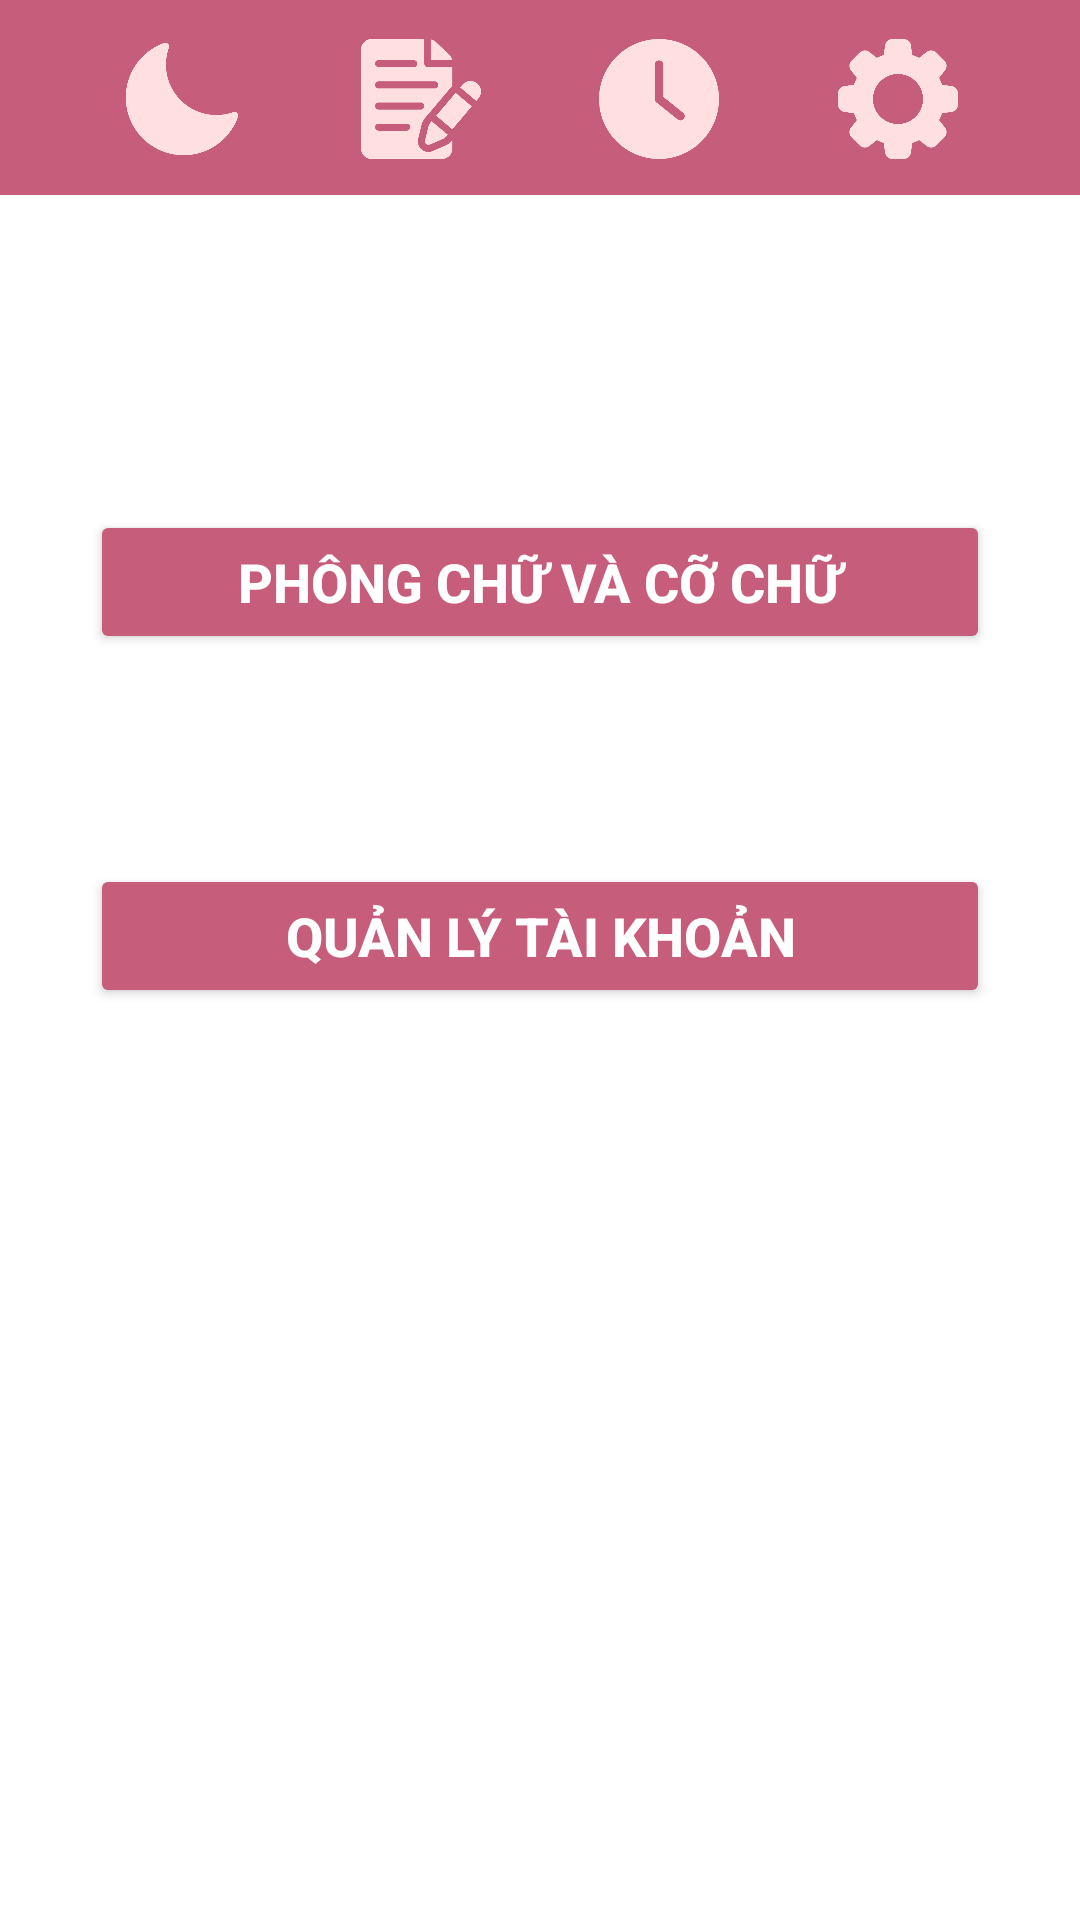

Icons on this 1080w x 1920h Android screen, each with its box as (x1, y1, x2, y2):
date: (599, 39, 719, 159)
nightmode: (126, 43, 238, 155)
note: (361, 39, 481, 159)
settings: (838, 39, 958, 159)
